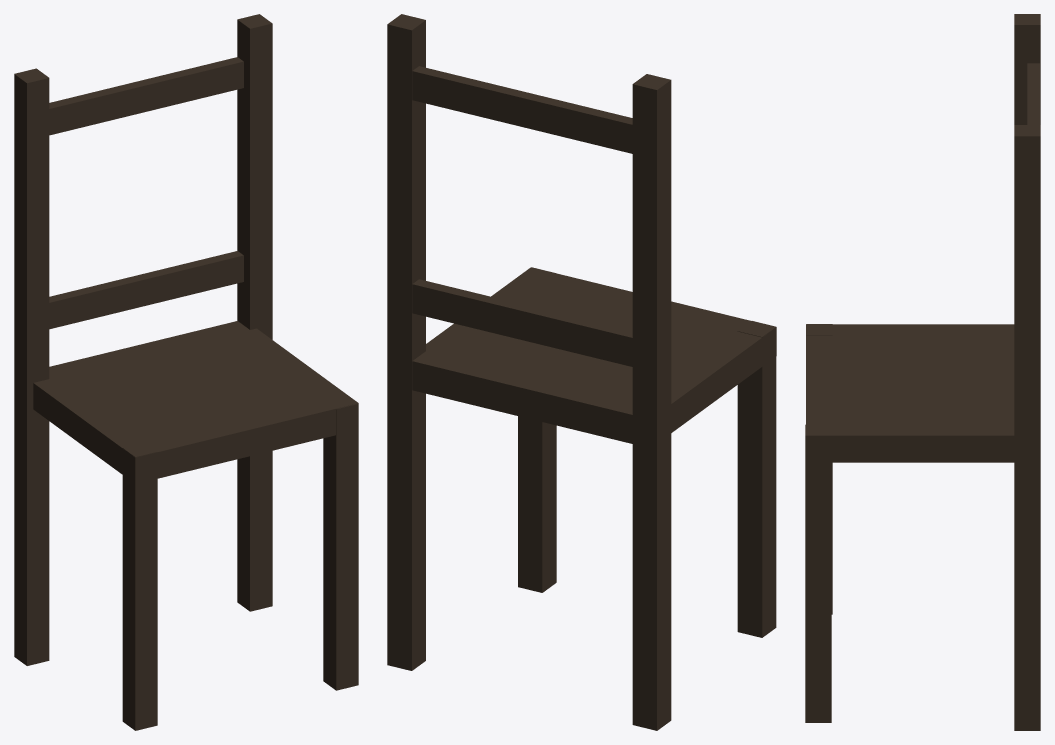
Rendered from Chair.fbx.
3 renders of one model, left to right at view 1: azimuth 30°, elevation 25°; view 2: azimuth 150°, elevation 25°; view 3: azimuth 270°, elevation 25°, orthographic. The views are drawn at different scales.
Parts seen in each view (by area): view 1: pCube2; view 2: pCube2; view 3: pCube2.
Part boxes in pixels (<box>): pCube2: <box>14,14,358,730</box>; pCube2: <box>387,14,776,730</box>; pCube2: <box>805,14,1040,730</box>.
Bounding box in the file's own units: 8.24 × 18.7 × 6.71.
